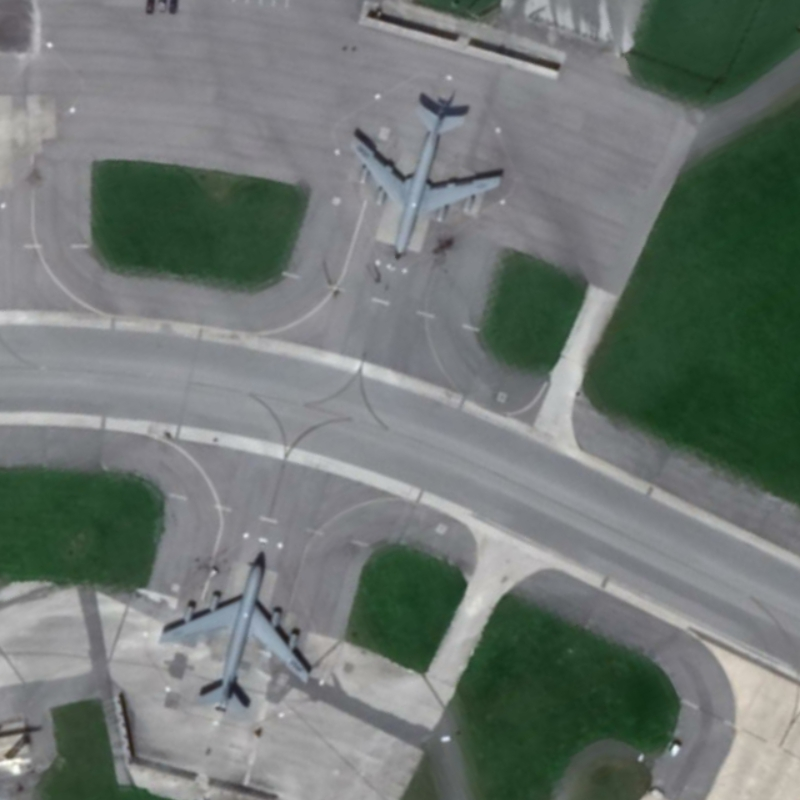A14: (342, 92, 507, 264), (154, 550, 314, 714)
